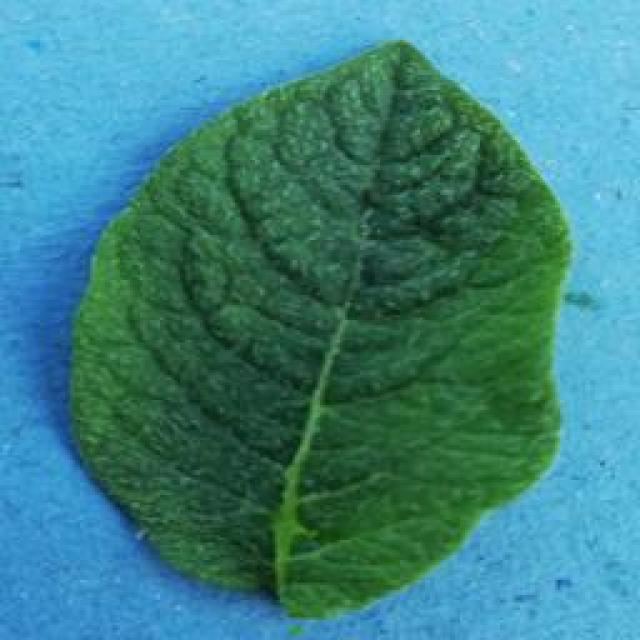Potato_Healthy: (69, 38, 572, 614)
